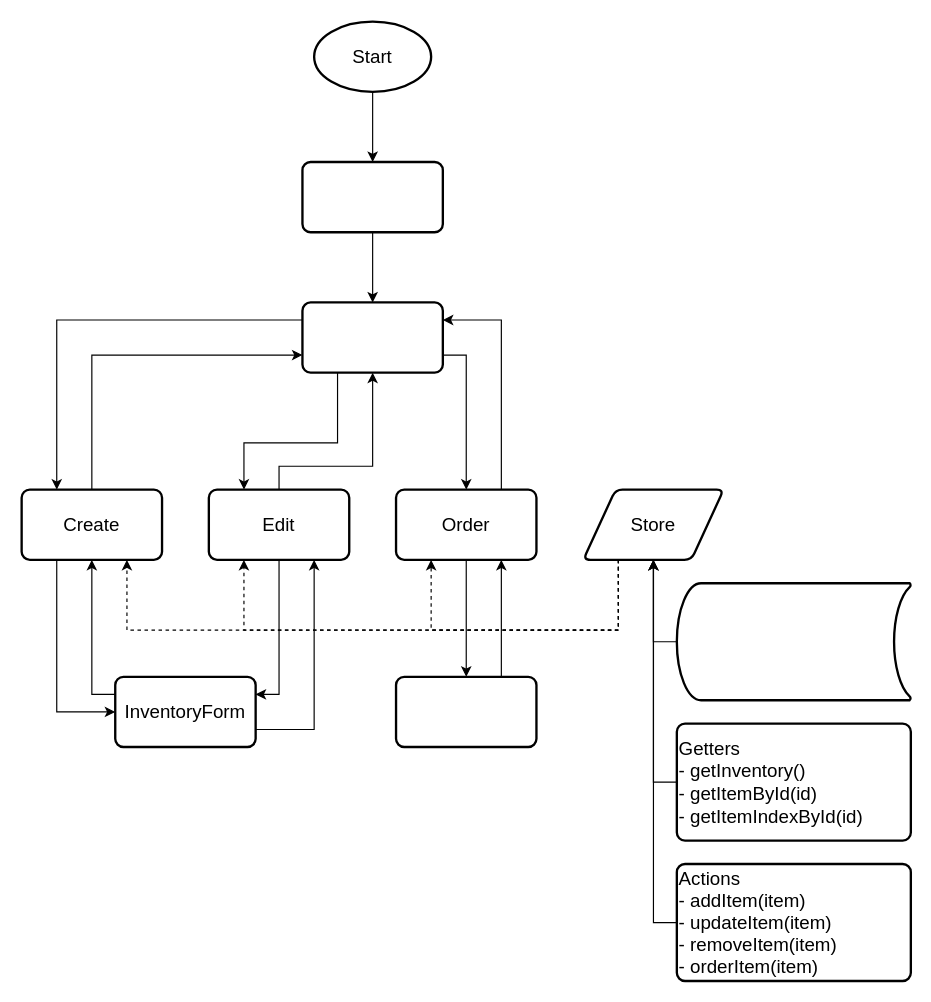
Some shapes in this 931 by 1002 pixel diagram are drawn without their labels. The shapes that lost their labels are listed below. From the top down, each one's centre as x and y in pixels, then its label:
the point at 372,196: Overview
the point at 372,337: InventoryTable
the point at 793,641: inventory id: int name: string actualAmount: int minimumAmount: int
the point at 465,711: OrderForm
